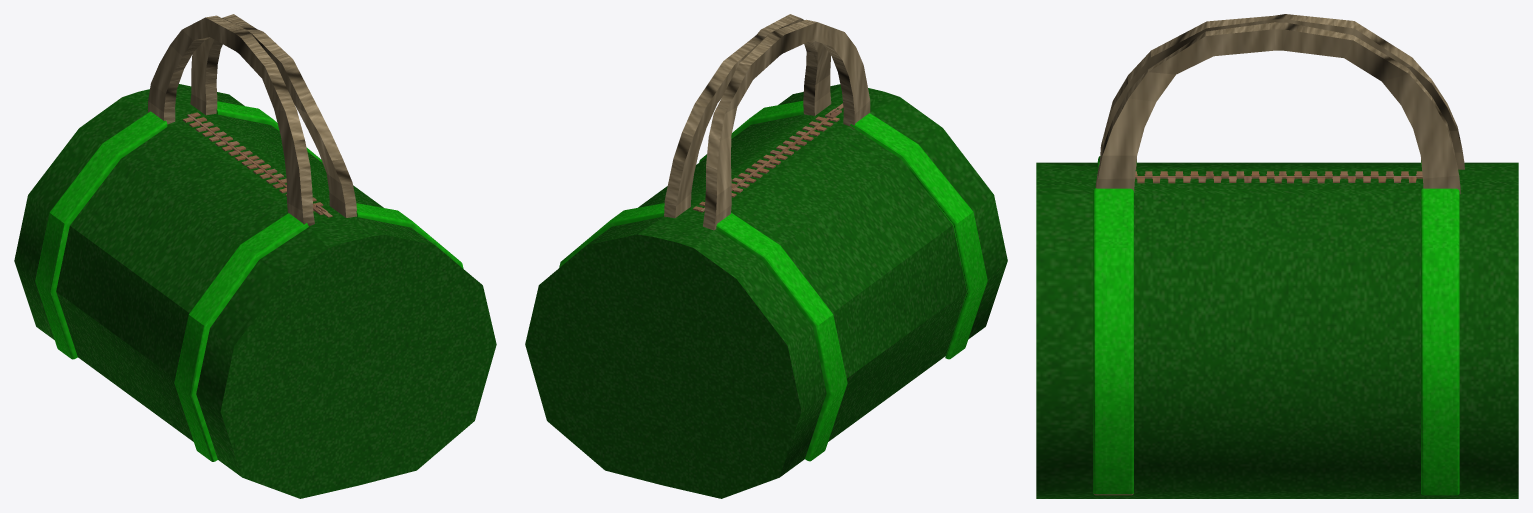
Rendered from folded tent.fbx.
The picture shows the model from 3 angles, left to right: view 1: azimuth 30°, elevation 25°; view 2: azimuth 150°, elevation 25°; view 3: azimuth 270°, elevation 25°; orthographic projection. The views are drawn at different scales.
Parts seen in each view (by area): view 1: folded_tent; view 2: folded_tent; view 3: folded_tent.
Part boxes in pixels (x1=…): folded_tent: x1=14, y1=14, x2=496, y2=498; folded_tent: x1=525, y1=14, x2=1007, y2=498; folded_tent: x1=1036, y1=14, x2=1518, y2=498.
Size of the model in its own units: 45.29 by 57.24 by 56.38.
